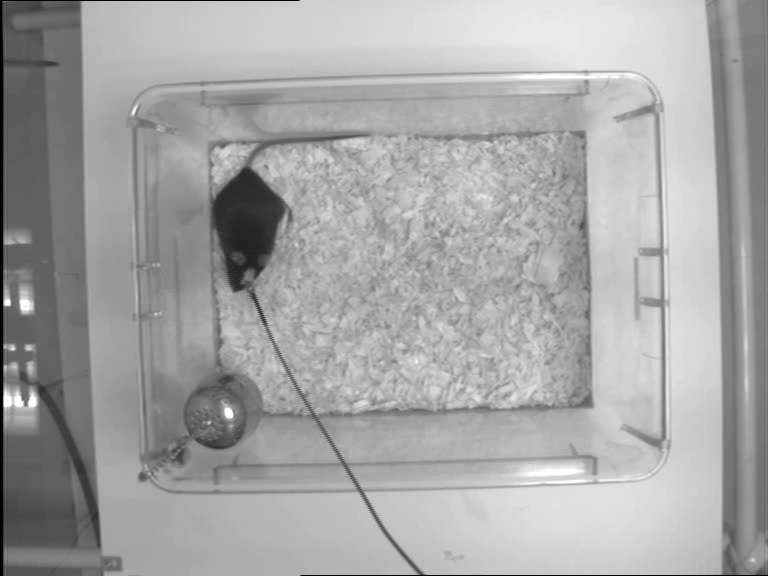mice: (214, 130, 371, 296)
